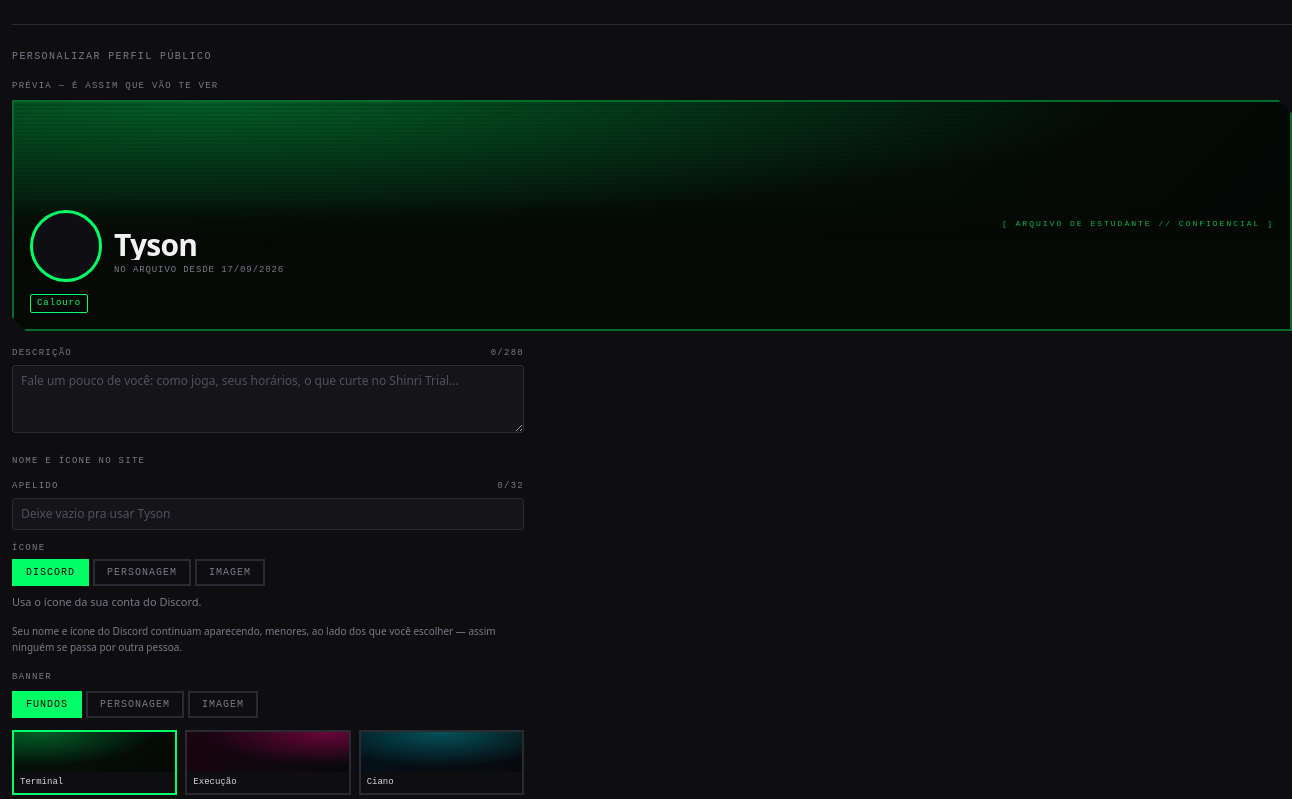
PersonalizarPerfil › link de ícone de host não permitido é barrado na hora
The image size is (1292, 799).
Click the tab "IMAGEM" below "APELIDO" at (230, 572), box top-left (195, 559), bottom-right (265, 586)
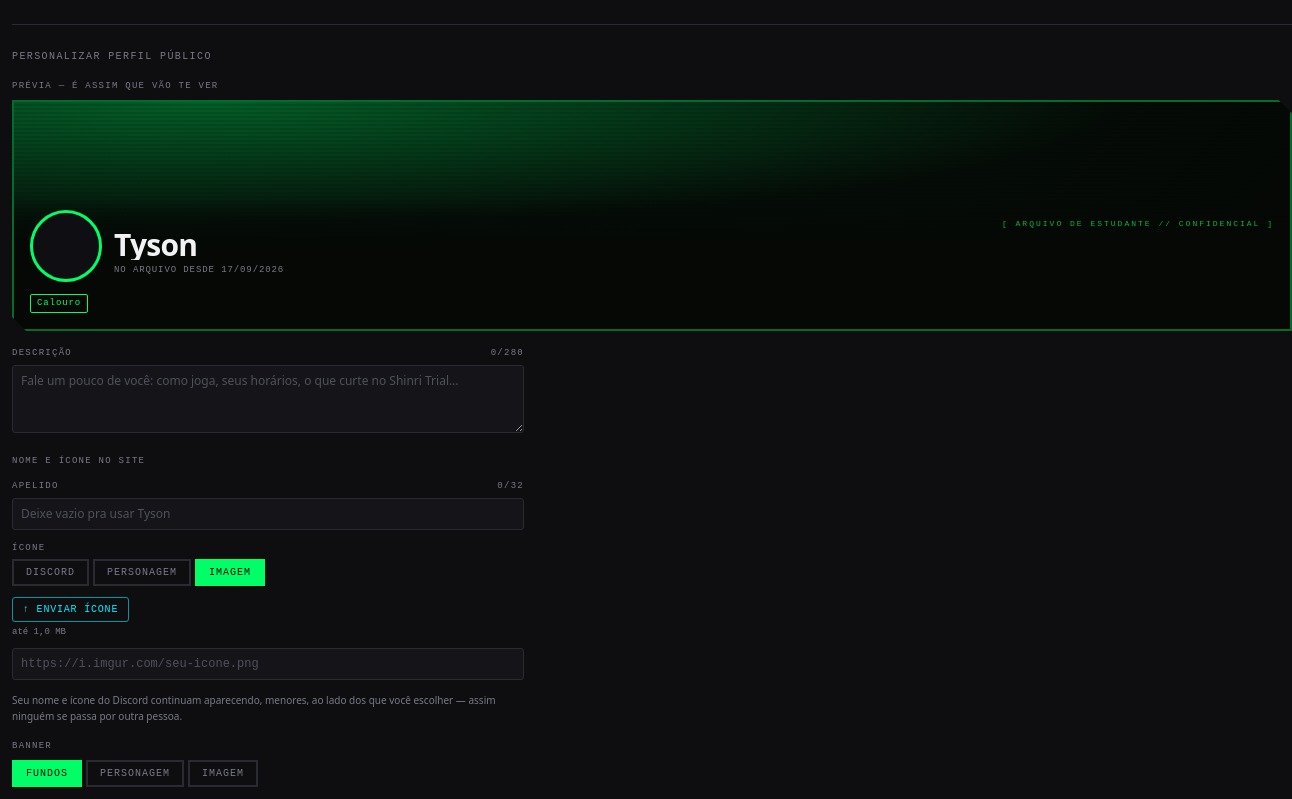
Type "https://evil.example/a.png" into the field named "Link da imagem do ícone" at (268, 664), box top-left (12, 648), bottom-right (524, 680)
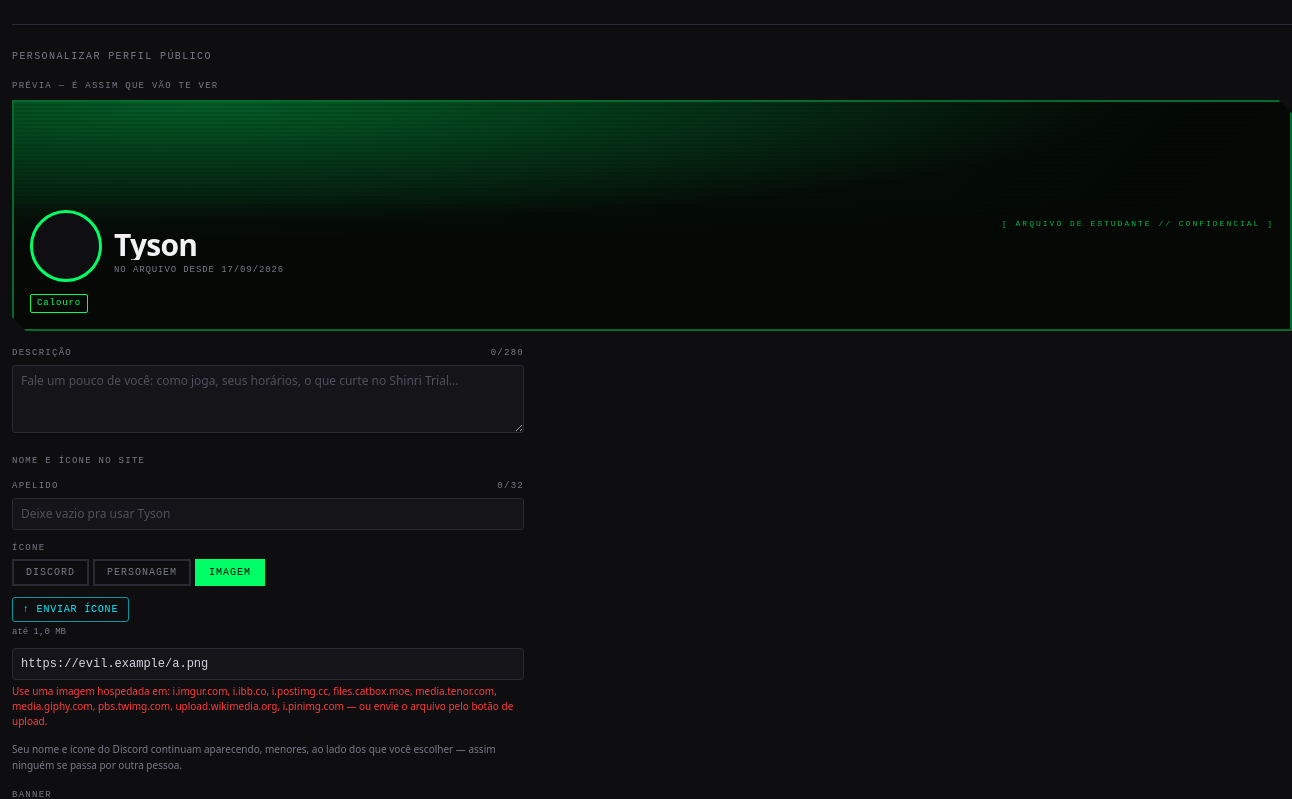
Expected: the message shows "Use uma imagem hospedada em", top-left (12, 684), bottom-right (513, 728)
